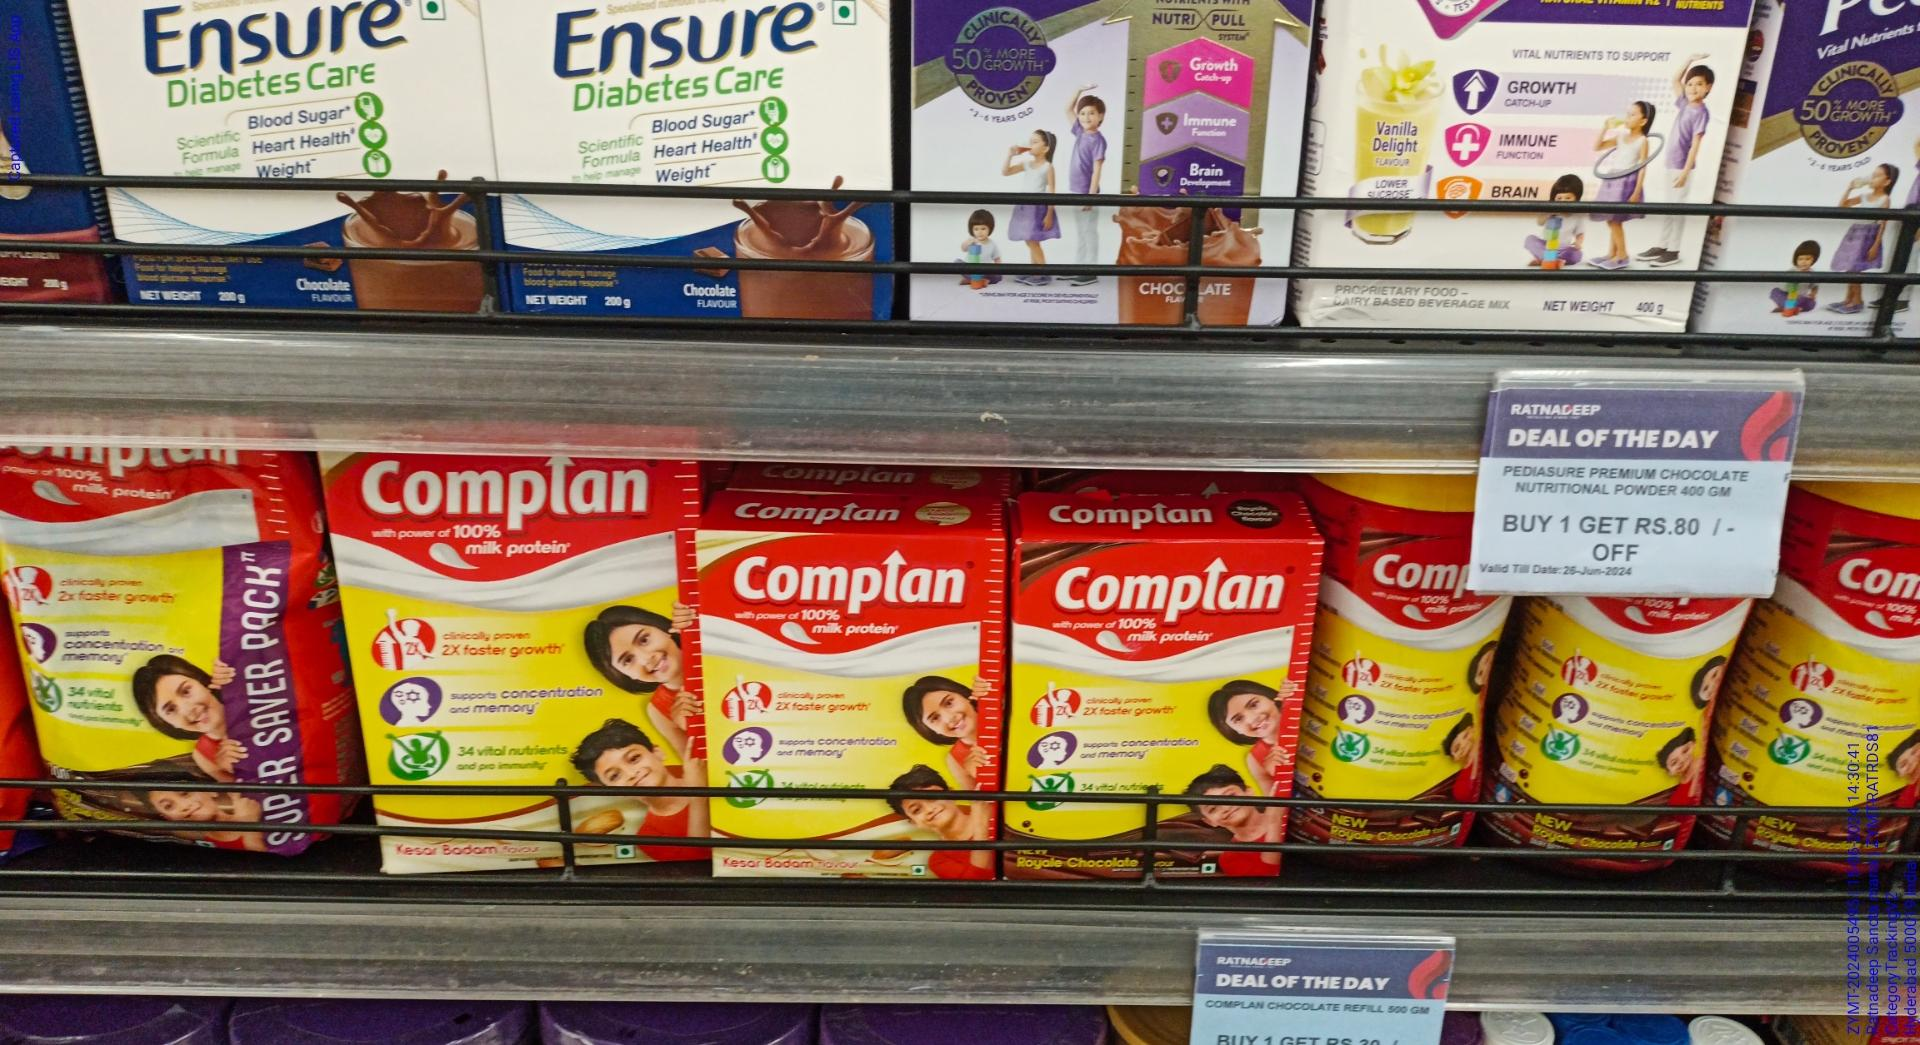COMPLAN_CHOCOLATE_200_GMS_PACK: (1011, 543, 1282, 882)
COMPLAN_CHOCOLATE_500_GMS_JAR: (1318, 515, 1484, 865), (1516, 595, 1713, 876)
COMPLAN_KESAR_BADAM_200_GMS_PACK: (713, 529, 1000, 885)
COMPLAN_KESAR_BADAM_500_GMS_PACK: (331, 458, 700, 879)
COMPLAN_RC_POUCH_700_GMS_12: (6, 432, 314, 861)
